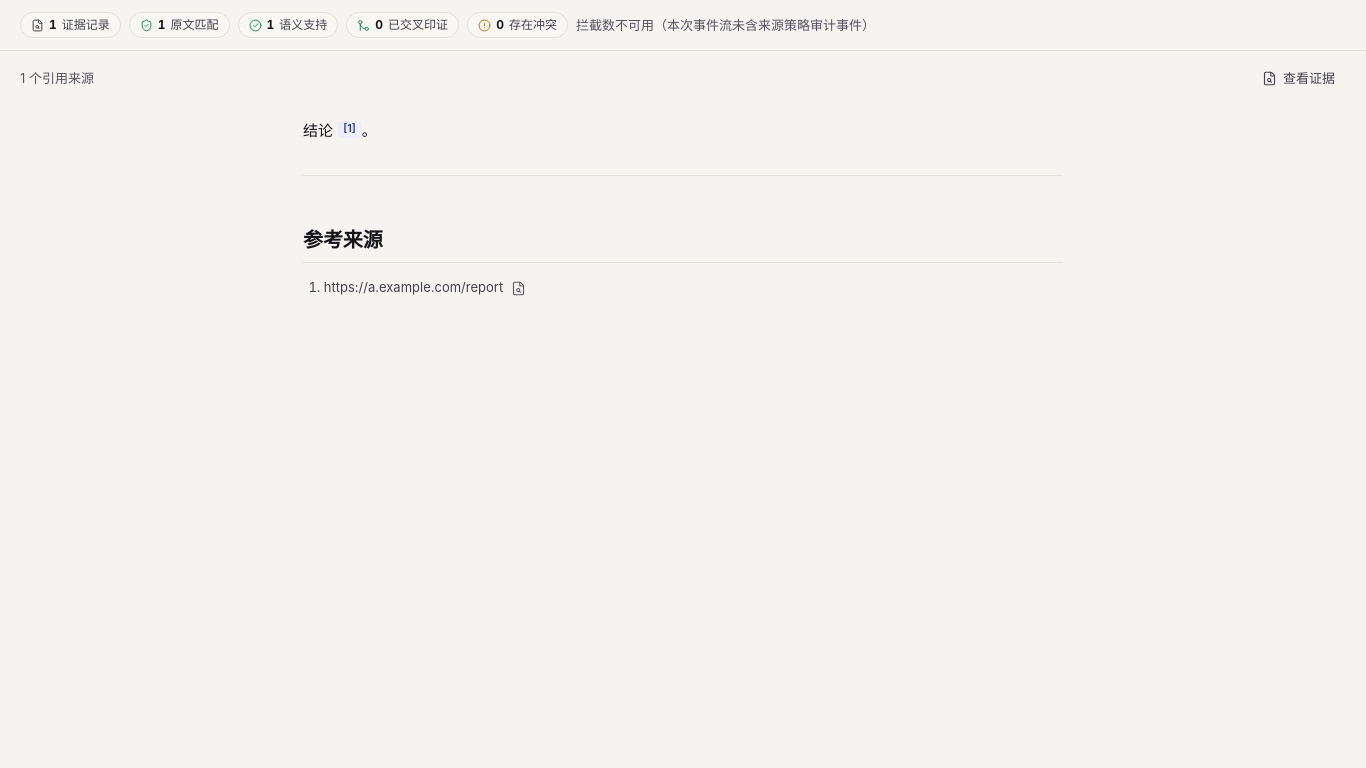
it: keeps legacy inline citations unbound even after the reader browses the source
This screenshot has width=1366, height=768.
Click the button named "查看引用 1 的证据" at (350, 130), box [338, 121, 361, 138]
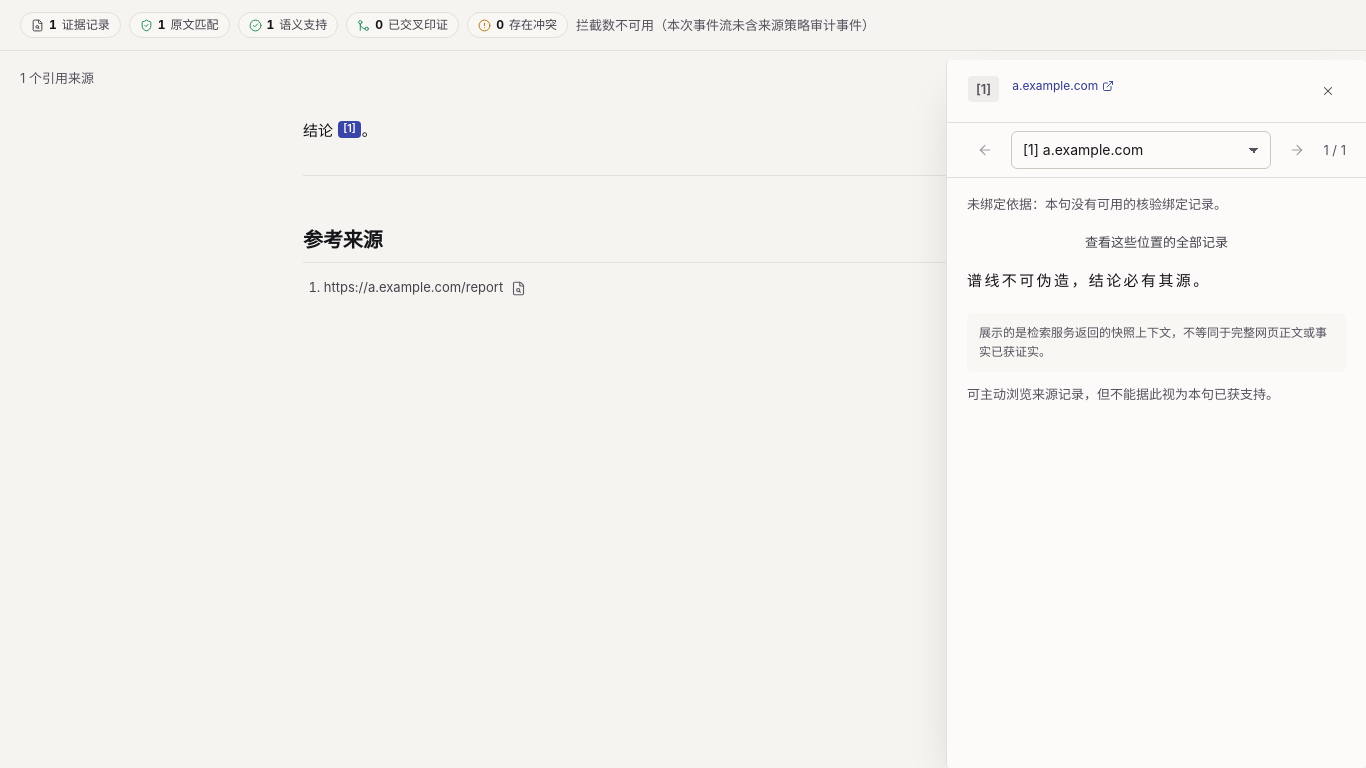
Expected: the text "SOURCE_QUOTE" is not shown
Now the text "未绑定依据：本句没有可用的核验绑定记录。" is shown, box [967, 196, 1227, 212]
Click the button "查看这些位置的全部记录" at (1156, 242), box [967, 227, 1346, 257]
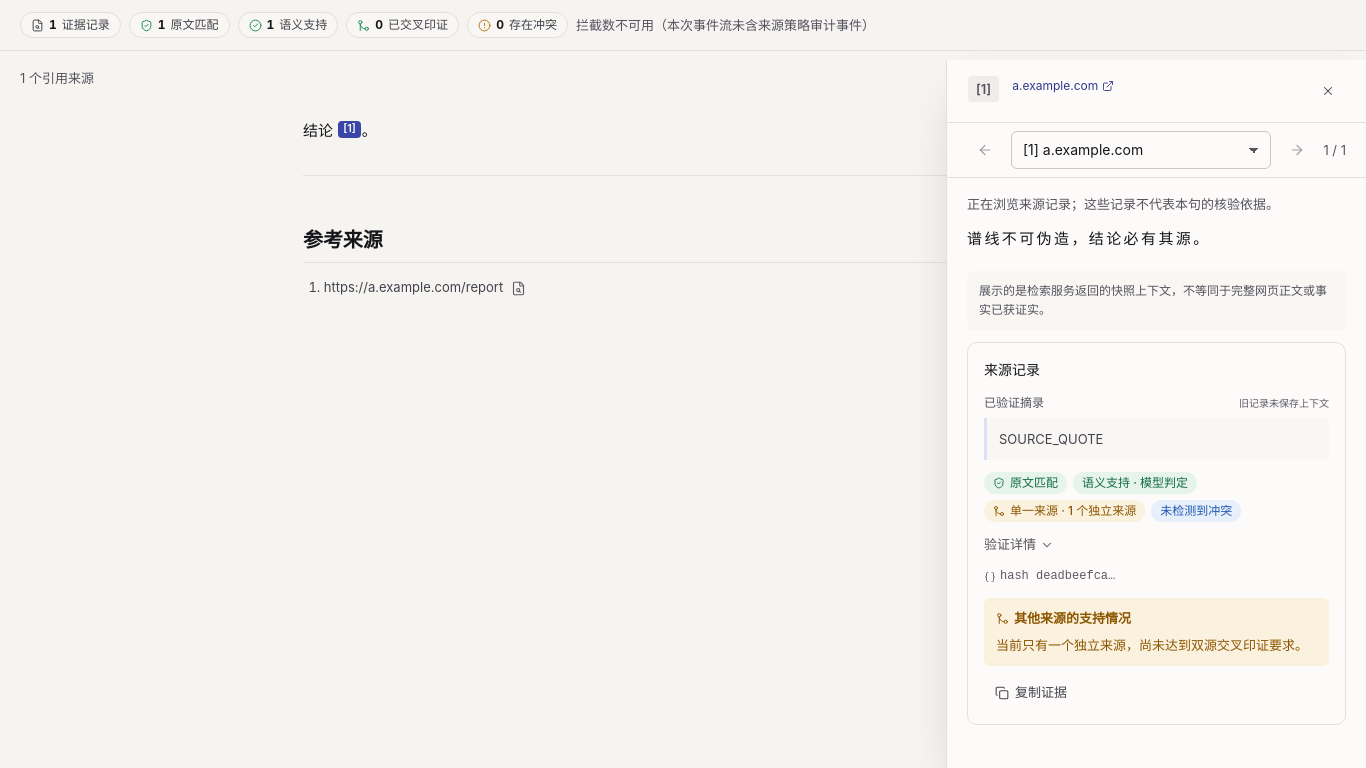
Now the text "SOURCE_QUOTE" is shown, box [984, 418, 1329, 460]
Now the text "正在浏览来源记录；这些记录不代表本句的核验依据。" is shown, box [967, 196, 1279, 212]
Click the button named "查看引用 1 的证据" at (350, 130), box [338, 121, 361, 138]
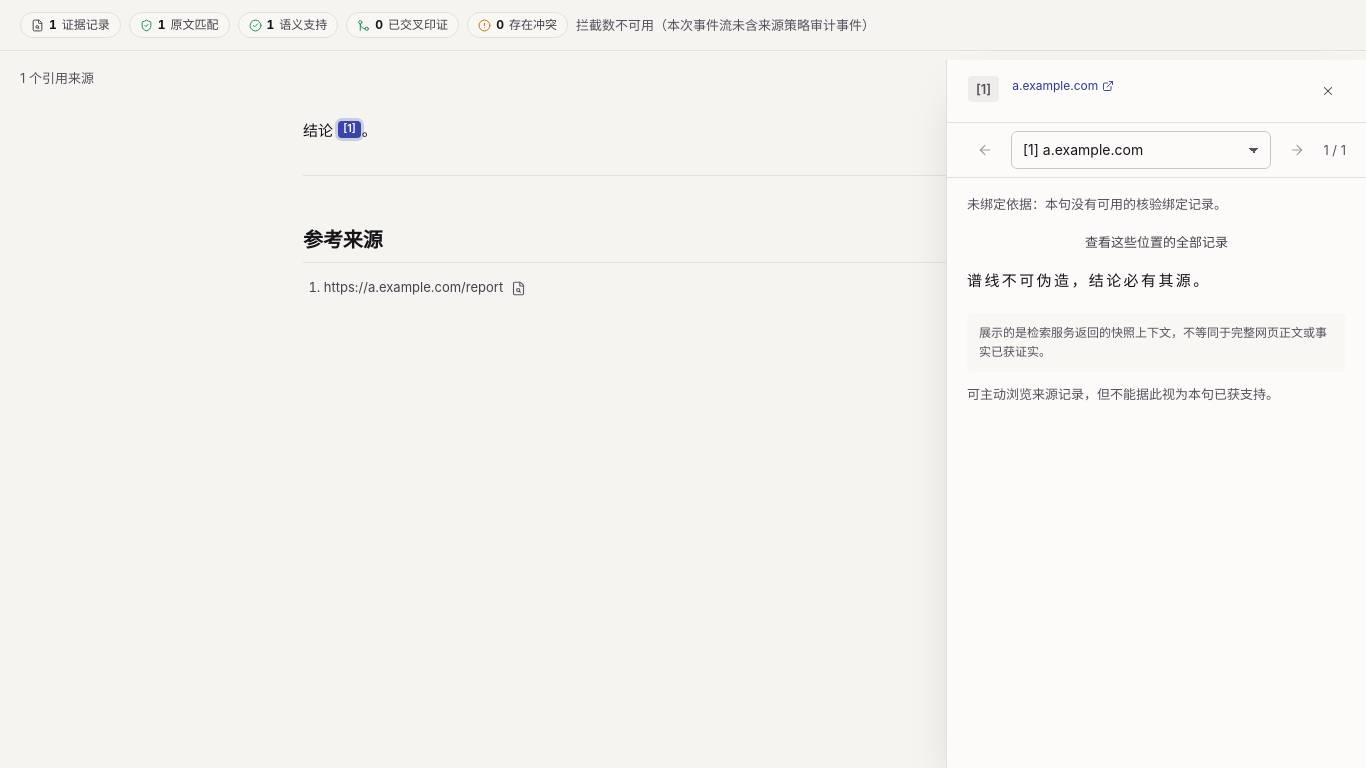
Now the text "SOURCE_QUOTE" is gone
Now the text "未绑定依据：本句没有可用的核验绑定记录。" is shown, box [967, 196, 1227, 212]
